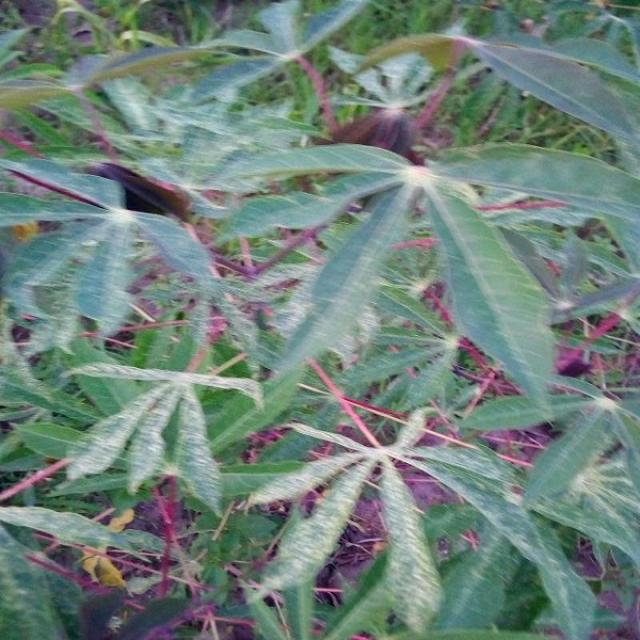cassava leaf: (1, 3, 638, 637), (423, 178, 558, 405)
